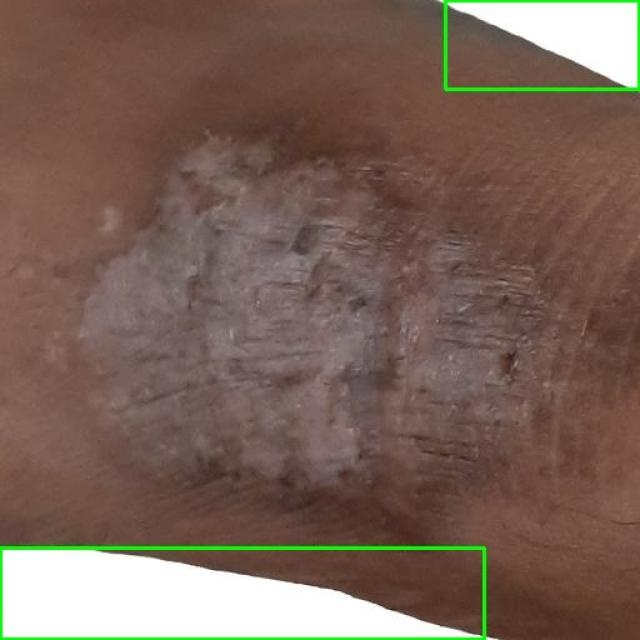Eczema: (0, 548, 485, 639), (445, 0, 639, 89)
